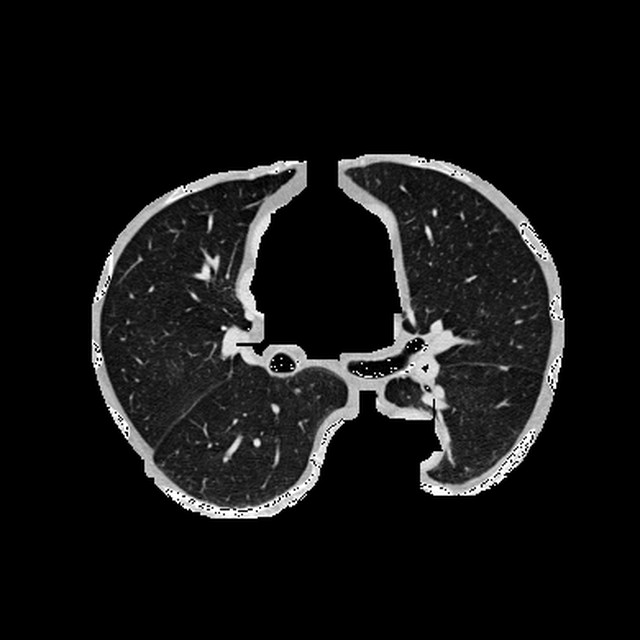PN: (501, 364, 507, 371)
